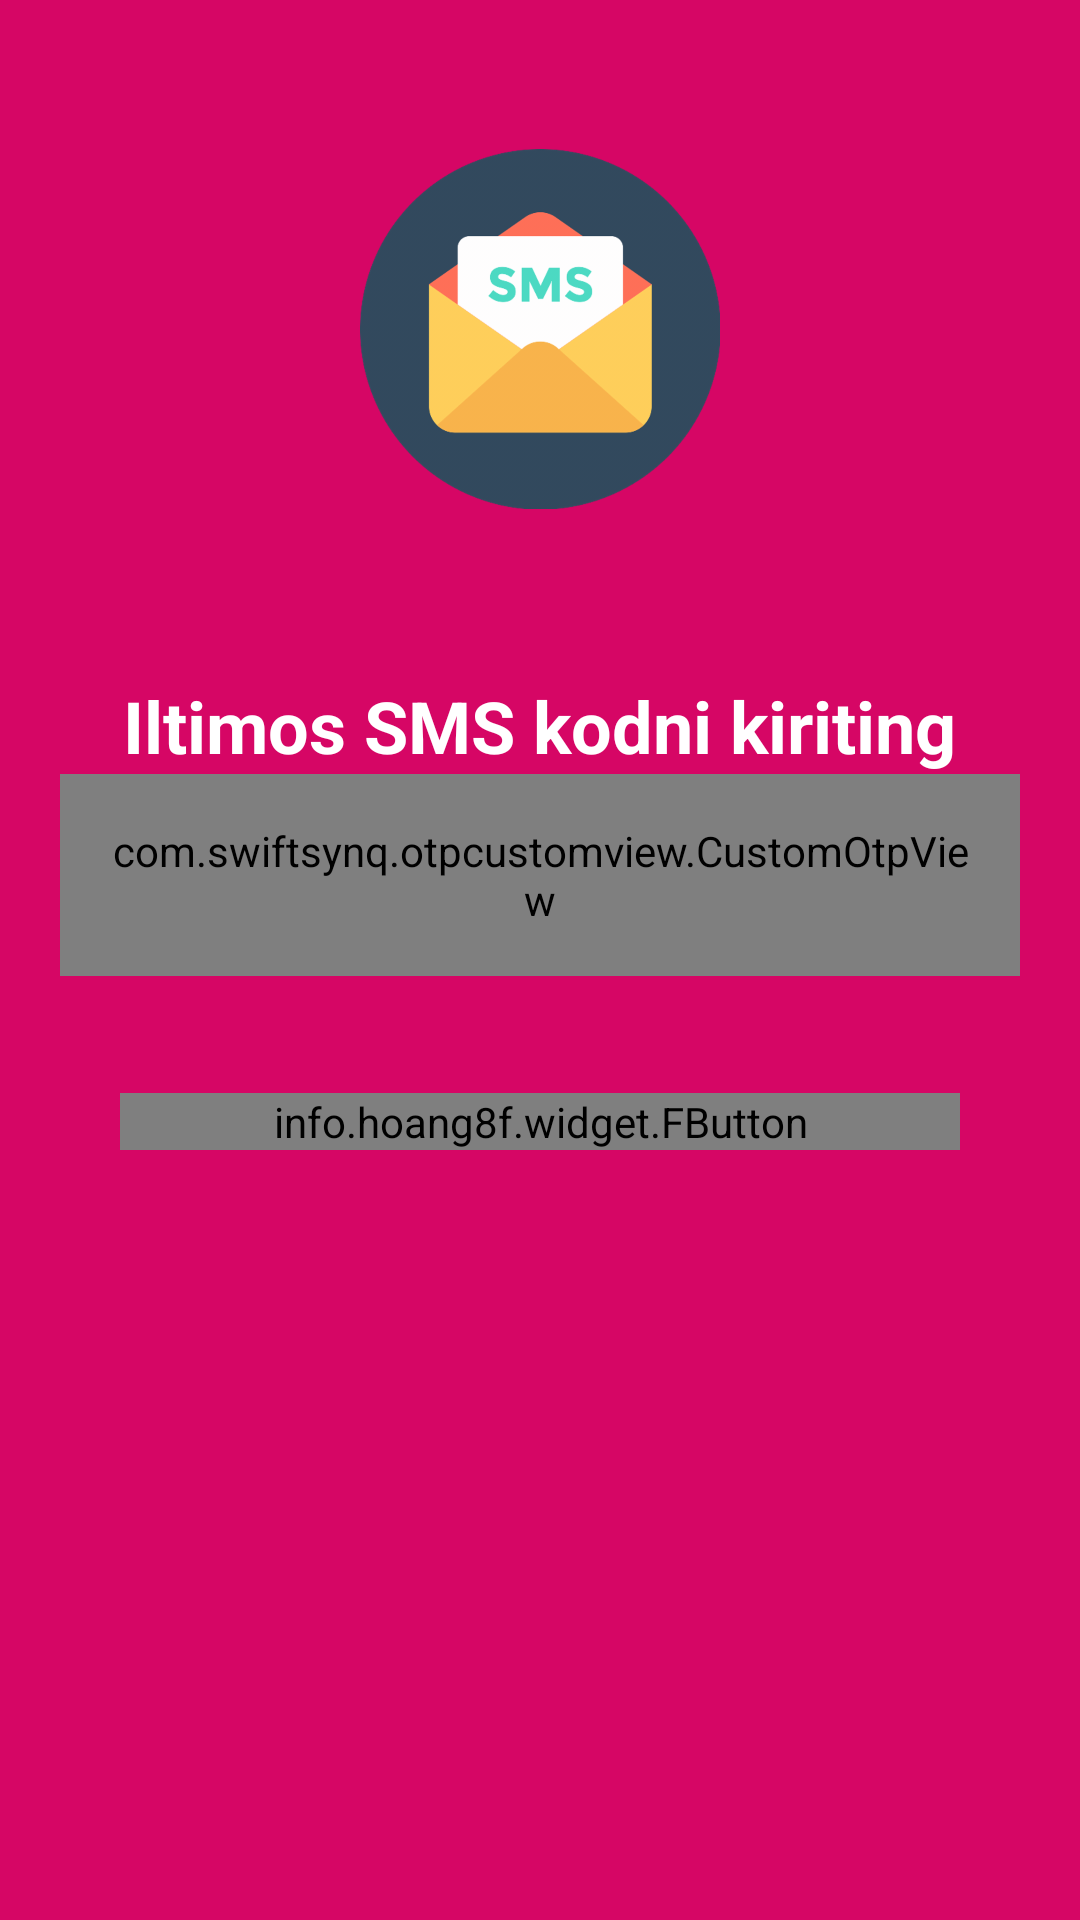

Screen size 1080*1920. Icon name, then its box in pixels as (x1, y1, x2, y2):
sms verification: (360, 149, 720, 509)
